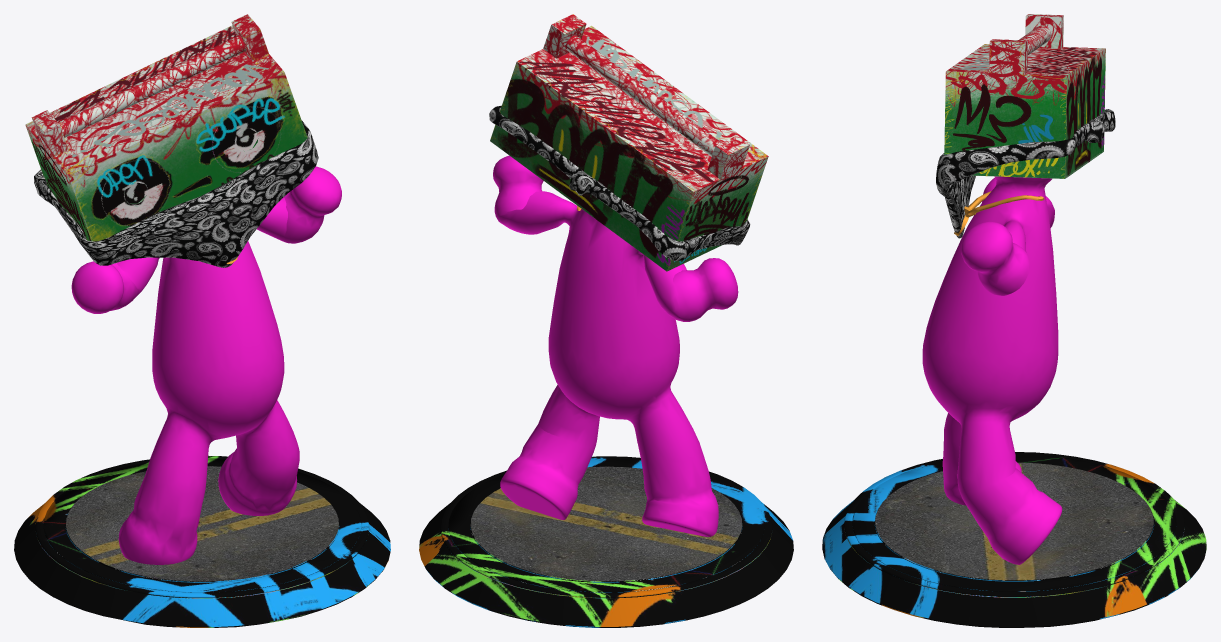
3 views of the same model, side by side, from view 1: azimuth 30°, elevation 25°; view 2: azimuth 150°, elevation 25°; view 3: azimuth 270°, elevation 25° (orthographic). The views are drawn at different scales.
Visible parts, largest first — view 1: BBody; view 2: BBody; view 3: BBody.
Part boxes in pixels (<box>): BBody: <box>14,14,390,627</box>; BBody: <box>419,14,793,627</box>; BBody: <box>822,14,1206,627</box>.
Size of the model in its own units: 1.45 by 2.2 by 1.45.
6 materials, 5 textured.
